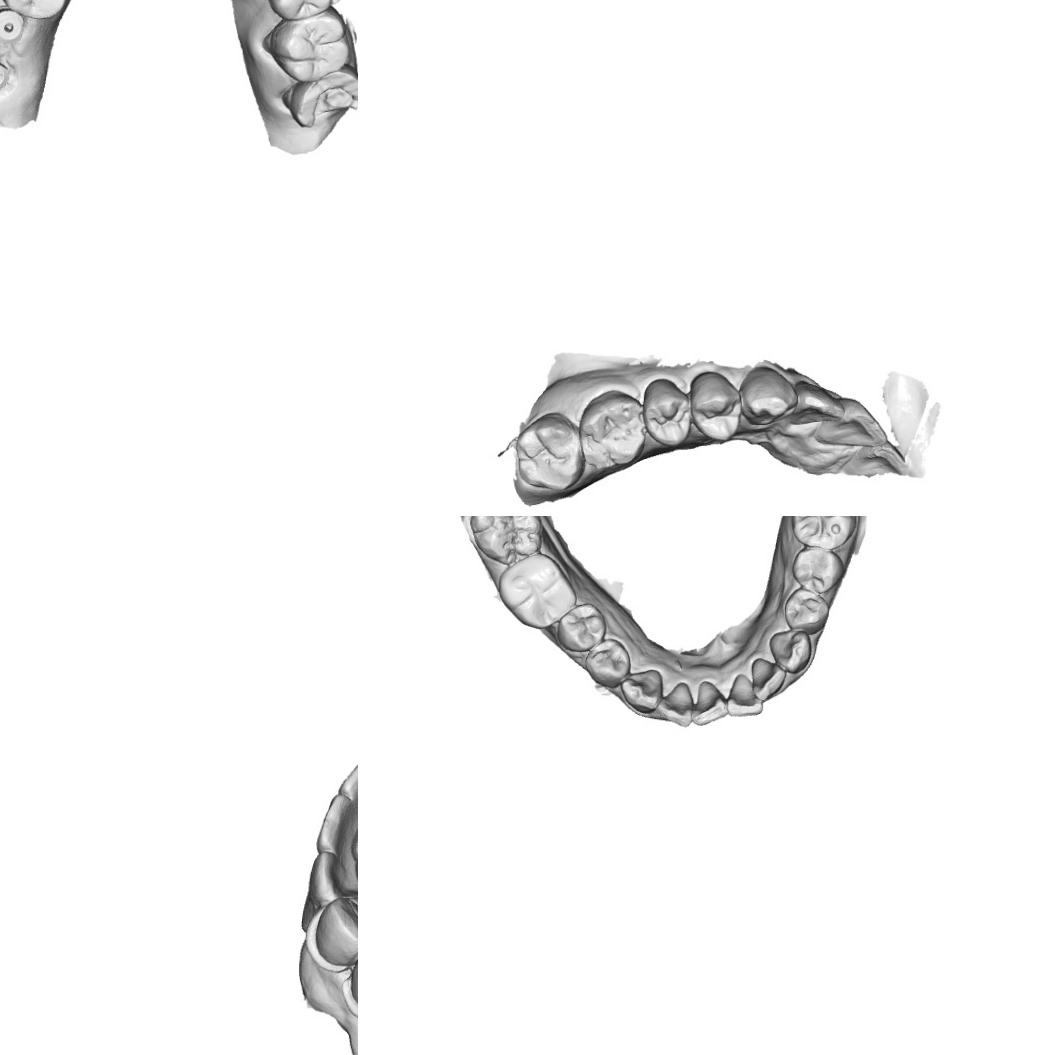canine: (737, 363, 798, 426), (314, 898, 358, 969), (765, 628, 813, 675), (619, 666, 663, 713)
implant: (0, 3, 29, 48)
incisor: (814, 395, 890, 448), (790, 378, 846, 428), (313, 791, 358, 851), (840, 438, 911, 476), (308, 854, 356, 904), (656, 678, 694, 730), (726, 672, 766, 718), (749, 656, 787, 704), (693, 679, 728, 728), (338, 748, 358, 798)
molar: (495, 550, 580, 631), (576, 388, 649, 474), (266, 10, 354, 80), (515, 409, 586, 494), (286, 68, 358, 127), (467, 516, 548, 566), (788, 516, 860, 552)
premolar: (687, 370, 743, 444), (642, 376, 695, 450), (554, 600, 608, 656), (788, 544, 846, 595), (583, 635, 632, 690), (782, 586, 830, 635), (265, 0, 334, 20), (0, 0, 65, 20)
